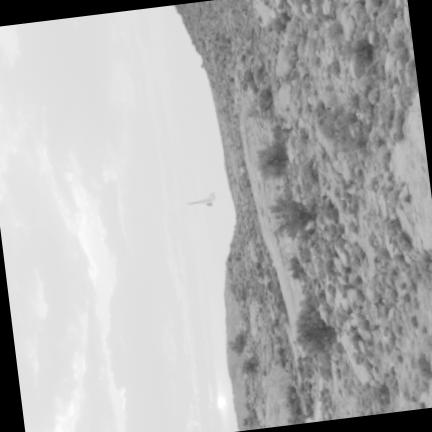Shahed: (186, 191, 214, 205)
